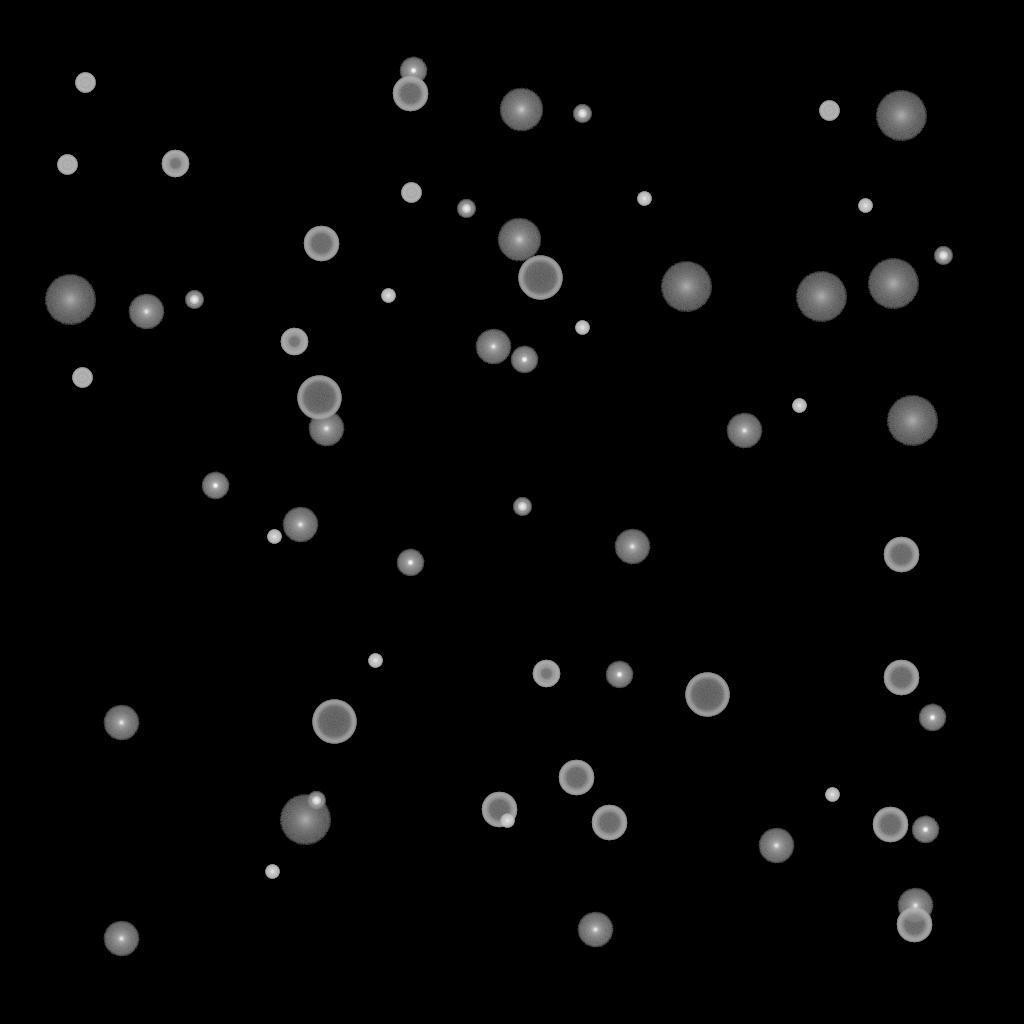depth:-10: (911, 816, 939, 844), (396, 549, 424, 577), (201, 472, 229, 500), (605, 661, 633, 689), (510, 346, 538, 374), (399, 57, 427, 85), (918, 704, 946, 732)
depth:-20: (307, 792, 325, 810), (457, 200, 475, 218), (934, 247, 952, 265), (513, 498, 531, 516), (573, 105, 591, 123), (185, 291, 203, 309)
depth:-30: (792, 399, 806, 413), (267, 530, 281, 544), (368, 654, 382, 668), (575, 321, 589, 335), (381, 289, 395, 303), (858, 199, 872, 213), (825, 788, 839, 802), (500, 814, 514, 828), (265, 865, 279, 879), (637, 192, 651, 206)
depth:-40: (72, 368, 92, 388), (401, 183, 421, 203), (819, 101, 839, 121), (75, 73, 95, 93), (57, 155, 77, 175)
depth:-50: (532, 660, 560, 688), (280, 328, 308, 356), (161, 150, 189, 178)
depth:-60: (481, 792, 517, 828), (392, 76, 428, 112), (558, 760, 594, 796), (883, 537, 919, 573), (872, 807, 908, 843), (883, 660, 919, 696), (896, 907, 932, 943), (303, 226, 339, 262), (591, 805, 627, 841)
depth:-70: (685, 673, 729, 717), (312, 700, 356, 744), (297, 376, 341, 420), (518, 256, 562, 300)
depth:0: (614, 529, 650, 565), (282, 507, 318, 543), (897, 888, 933, 924), (308, 411, 344, 447), (128, 294, 164, 330), (103, 705, 139, 741), (103, 921, 139, 957), (726, 413, 762, 449), (577, 912, 613, 948), (758, 828, 794, 864), (475, 329, 511, 365)
depth:10: (499, 88, 543, 132), (497, 218, 541, 262)
depth:20: (875, 91, 927, 141), (44, 275, 96, 325), (867, 259, 919, 309), (795, 272, 847, 322), (660, 262, 712, 312), (279, 795, 331, 845), (886, 396, 938, 446)
